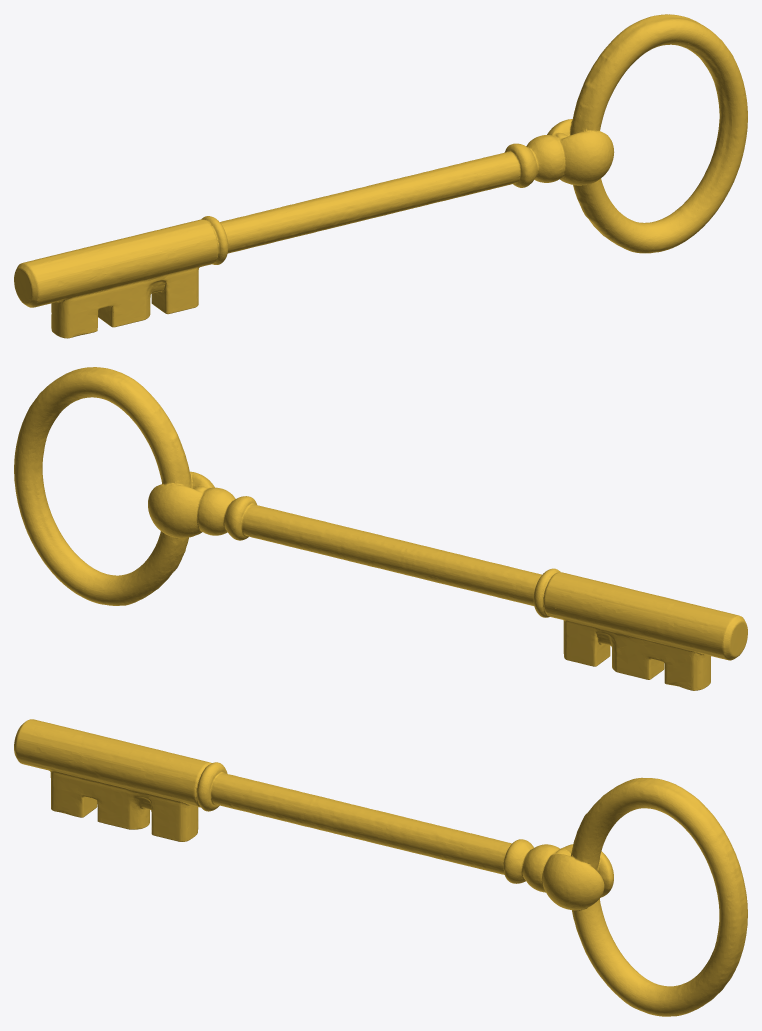
File: FinalKey.fbx
3 renders of one model, top to bottom at view 1: azimuth 30°, elevation 25°; view 2: azimuth 150°, elevation 25°; view 3: azimuth 330°, elevation 25°, orthographic.
Parts seen in each view (by area): view 1: Mesh1.0; view 2: Mesh1.0; view 3: Mesh1.0.
Part boxes in pixels (x1,y1,x2,y2): Mesh1.0: (14, 14, 747, 338); Mesh1.0: (14, 367, 747, 690); Mesh1.0: (14, 719, 747, 1016).
Size of the model in its own units: 190 by 58.04 by 16.74.
